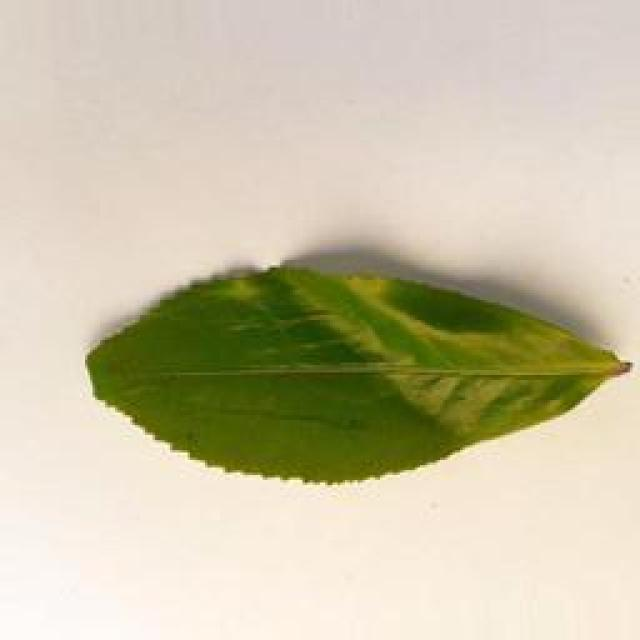Healthy: (72, 255, 640, 492)
